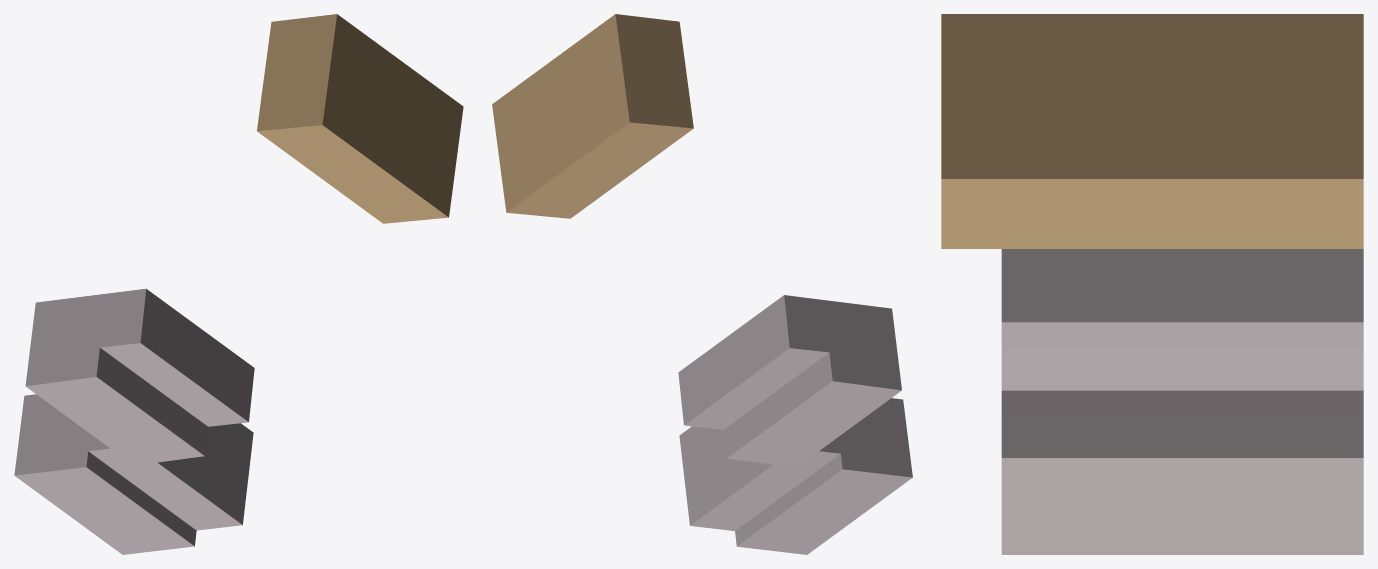
3 views of the same model, side by side, from view 1: azimuth 30°, elevation 25°; view 2: azimuth 150°, elevation 25°; view 3: azimuth 270°, elevation 25° (orthographic). The views are drawn at different scales.
Visible parts, largest first — view 1: 0_0_3_1_3_3_2_3_2; view 2: 0_0_3_1_3_3_2_3_2; view 3: 0_0_3_1_3_3_2_3_2.
Boxes of the visible parts, x1,y1,x2,y2 form: 0_0_3_1_3_3_2_3_2: (14,14,463,554); 0_0_3_1_3_3_2_3_2: (492,14,912,554); 0_0_3_1_3_3_2_3_2: (941,14,1363,554).
Bounding box in the file's own units: 30.95 × 36.67 × 21.
